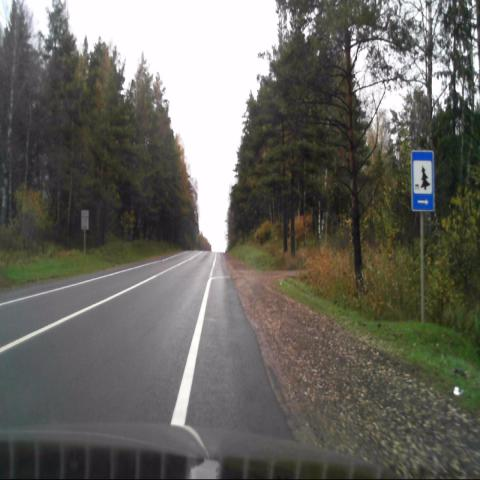7_11: (412, 149, 436, 210)
